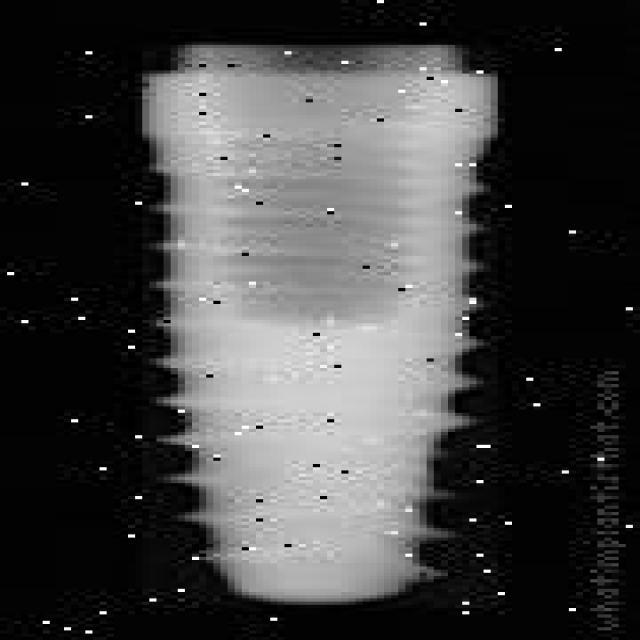Retained root: (142, 45, 498, 608)
